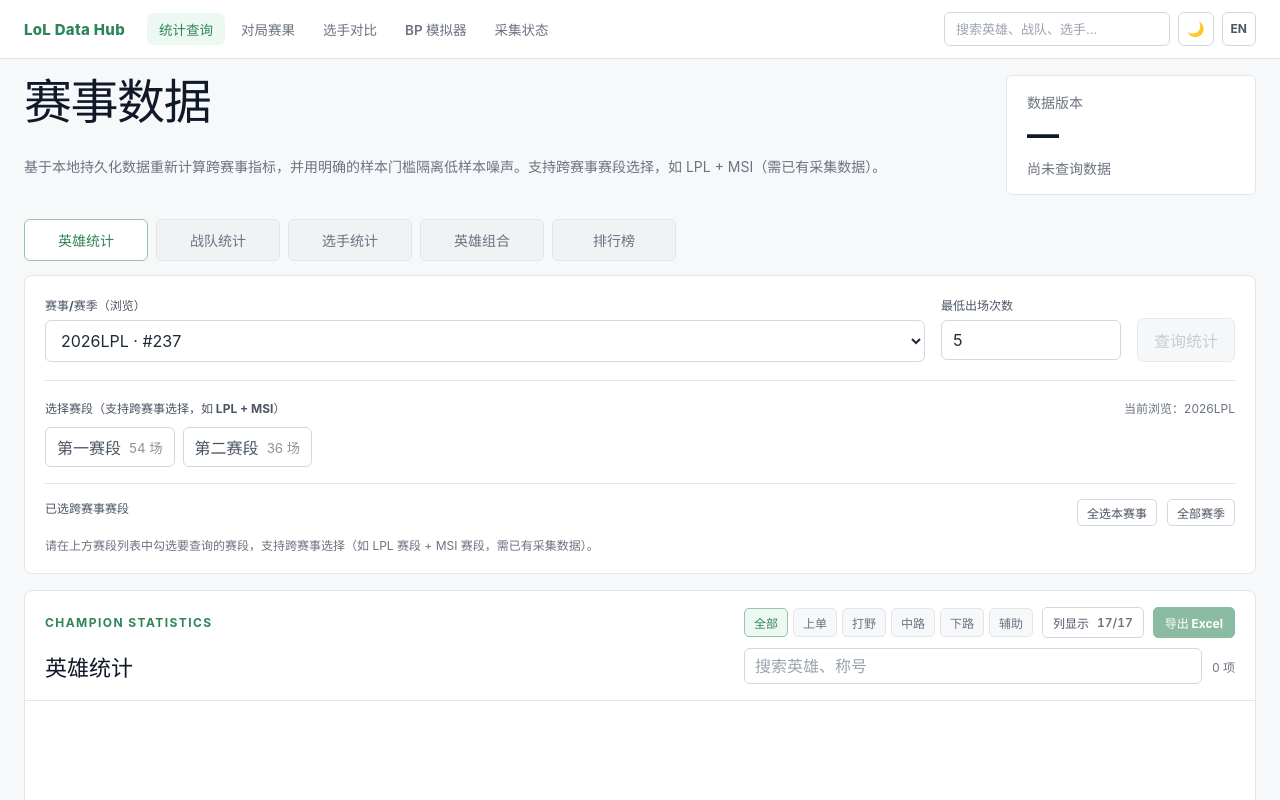
Test: 查询状态 › 可以一键清空所有已选赛段
Click the button with class "stage-chip" showing "第一赛段 54 场": (110, 447) [45,427,175,467]
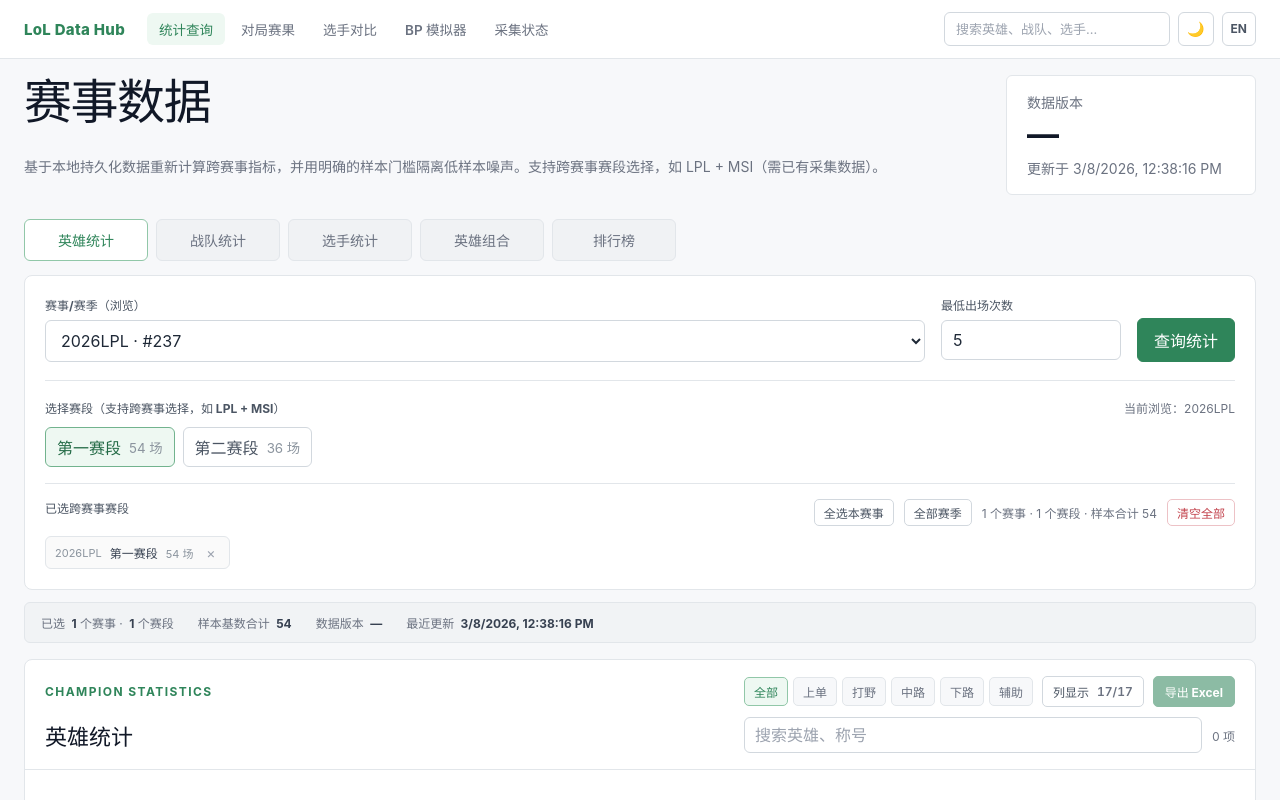
Click the button with class "stage-chip" showing "第二赛段 36 场": (247, 447) [183,427,312,467]
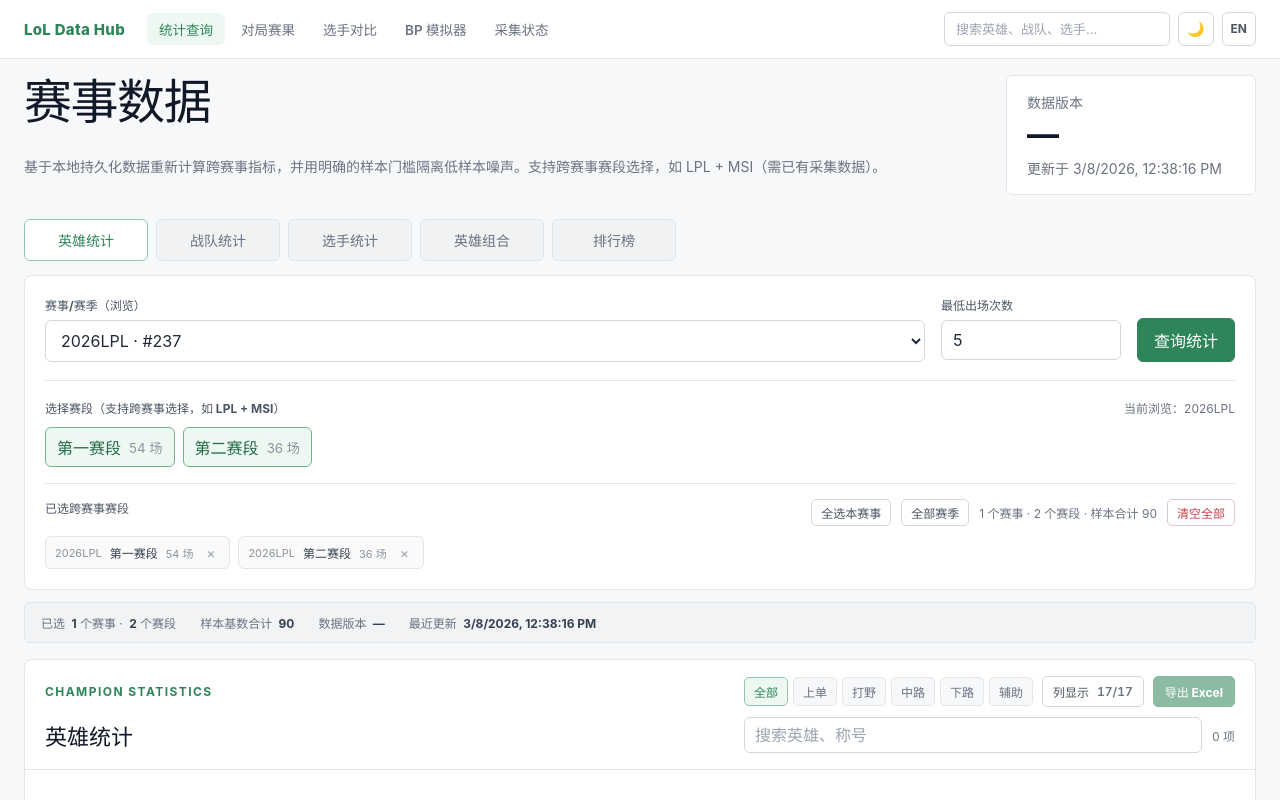
Expected: the button with class "basket-clear" reads "清空全部"
Expected: the number of elements with class "basket-item" is 2, [45,536,230,569]; [238,536,424,569]
Click the button with class "basket-clear": (1201, 513) [1167,499,1235,526]
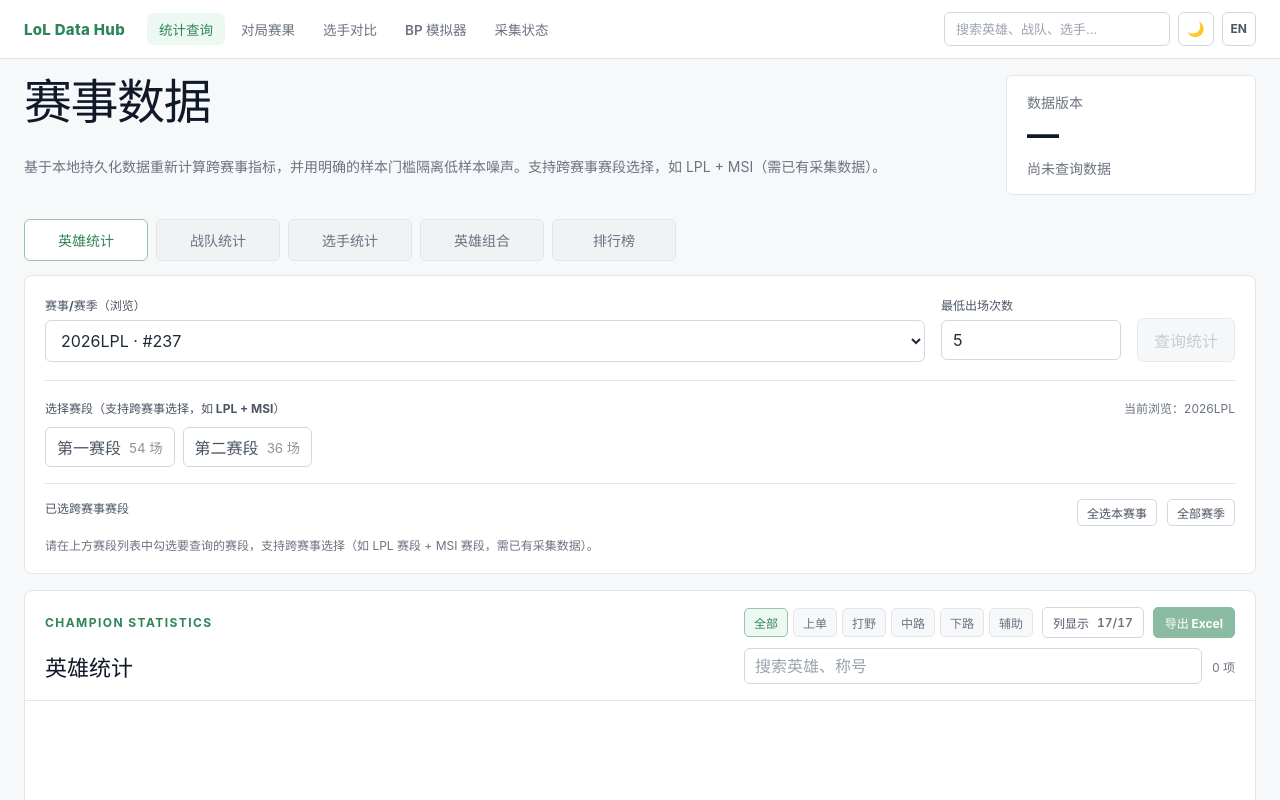
Expected: no elements with class "basket-item" are shown
Expected: the button "查询统计" is disabled, [1137,318,1235,362]
Expected: the text "请在上方赛段列表中勾选要查询的赛段" is shown, [45,538,599,553]
